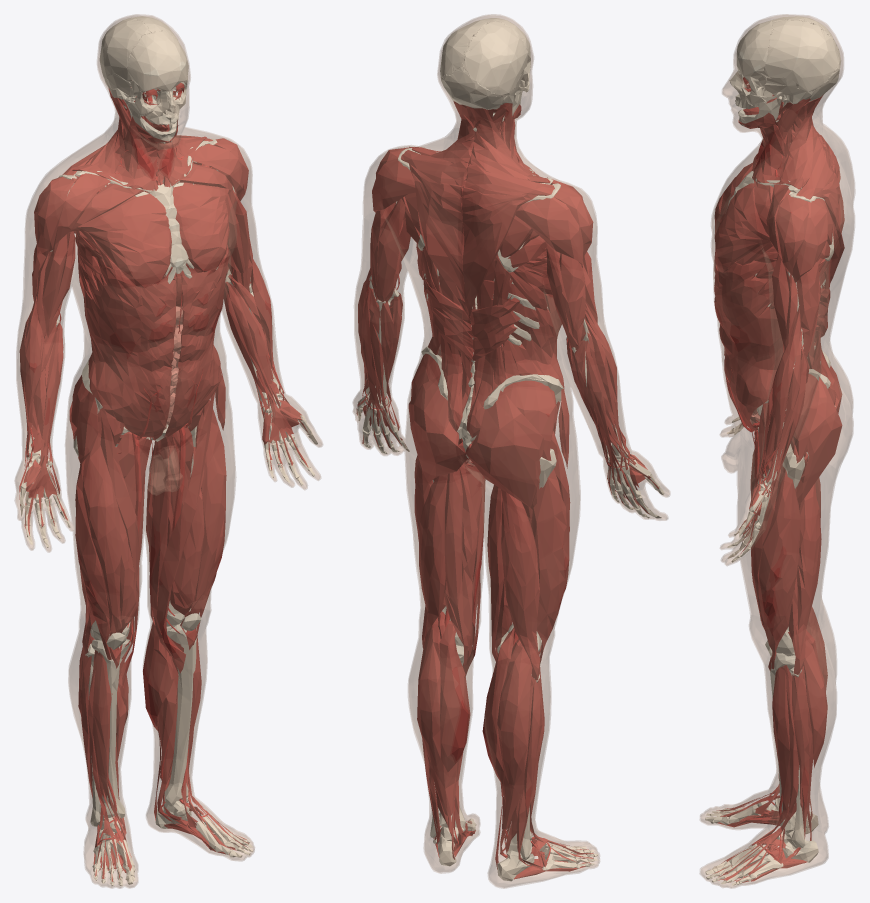
The model's file is systems.glb.
The picture shows the model from 3 angles, left to right: view 1: azimuth 30°, elevation 25°; view 2: azimuth 150°, elevation 25°; view 3: azimuth 270°, elevation 25°; orthographic projection. The views are drawn at different scales.
Visible parts, largest first — view 1: skin, muscles, skeleton, arteries, organs; view 2: skin, muscles, skeleton; view 3: skin, muscles, skeleton, arteries.
Part boxes in pixels (x1=…): skin: x1=14, y1=14, x2=322, y2=888; muscles: x1=19, y1=82, x2=309, y2=881; skeleton: x1=20, y1=16, x2=317, y2=885; arteries: x1=27, y1=144, x2=284, y2=865; organs: x1=146, y1=191, x2=182, y2=429; skin: x1=352, y1=14, x2=670, y2=888; muscles: x1=356, y1=101, x2=658, y2=879; skeleton: x1=357, y1=18, x2=664, y2=881; skin: x1=699, y1=14, x2=855, y2=888; muscles: x1=713, y1=77, x2=844, y2=882; skeleton: x1=705, y1=16, x2=841, y2=885; arteries: x1=724, y1=98, x2=803, y2=873.
Bounding box in the file's own units: 0.6673 × 1.72 × 0.2918.
